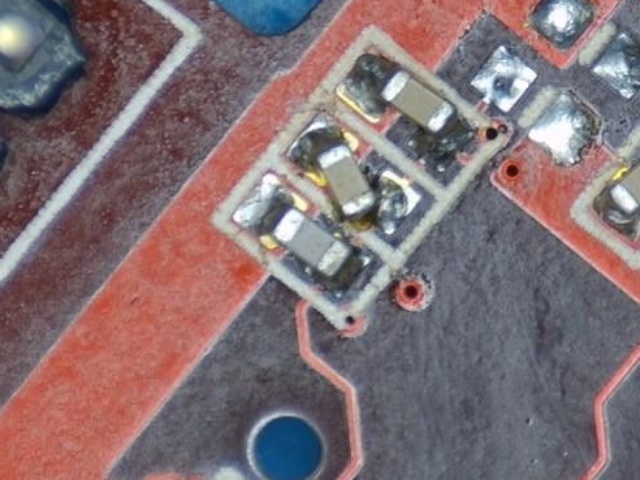pcb_defect: (336, 45, 475, 173), (283, 112, 421, 234), (594, 106, 640, 240)
